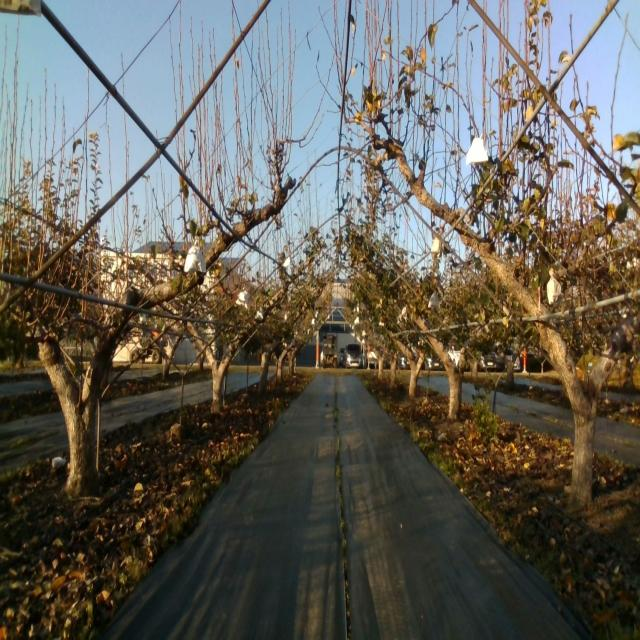pearbags: (183, 240, 207, 276), (465, 133, 489, 165), (546, 269, 562, 306), (235, 286, 248, 308), (428, 291, 441, 310)
